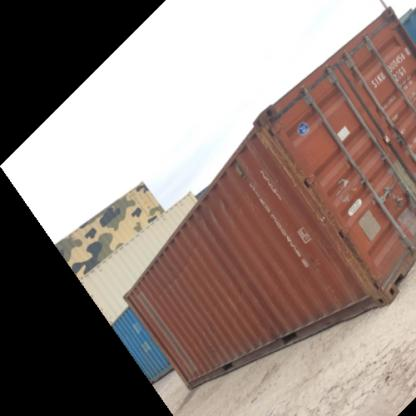Damage: (258, 121, 311, 188), (341, 217, 373, 297), (161, 242, 198, 290), (199, 194, 237, 224), (333, 170, 362, 206)
